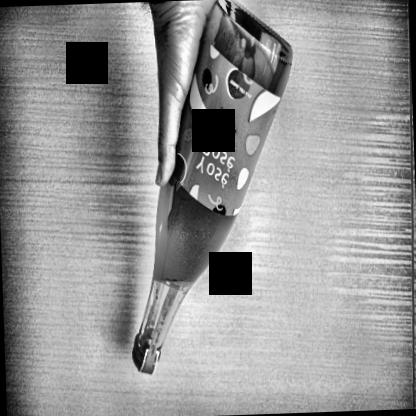yoserose: (162, 52, 284, 220)
